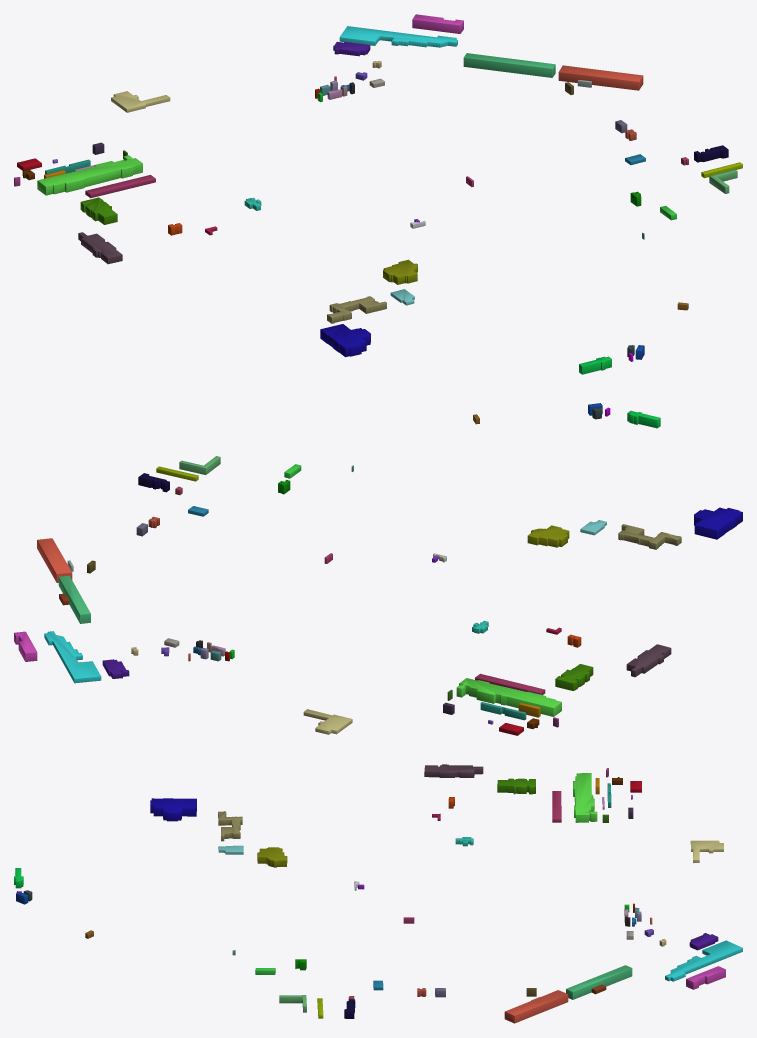
The model's file is East_Chicago.fbx.
3 renders of one model, top to bottom at view 1: azimuth 30°, elevation 25°; view 2: azimuth 150°, elevation 25°; view 3: azimuth 270°, elevation 25°, orthographic. The views are drawn at different scales.
Visible parts, largest first — view 1: file1; view 2: file1; view 3: file1.
Boxes of the visible parts, x1,y1,x2,y2 form: file1: (14,14,742,374); file1: (14,403,742,735); file1: (14,764,742,1023).
Bounding box in the file's own units: 1981 × 29.9 × 2405.
